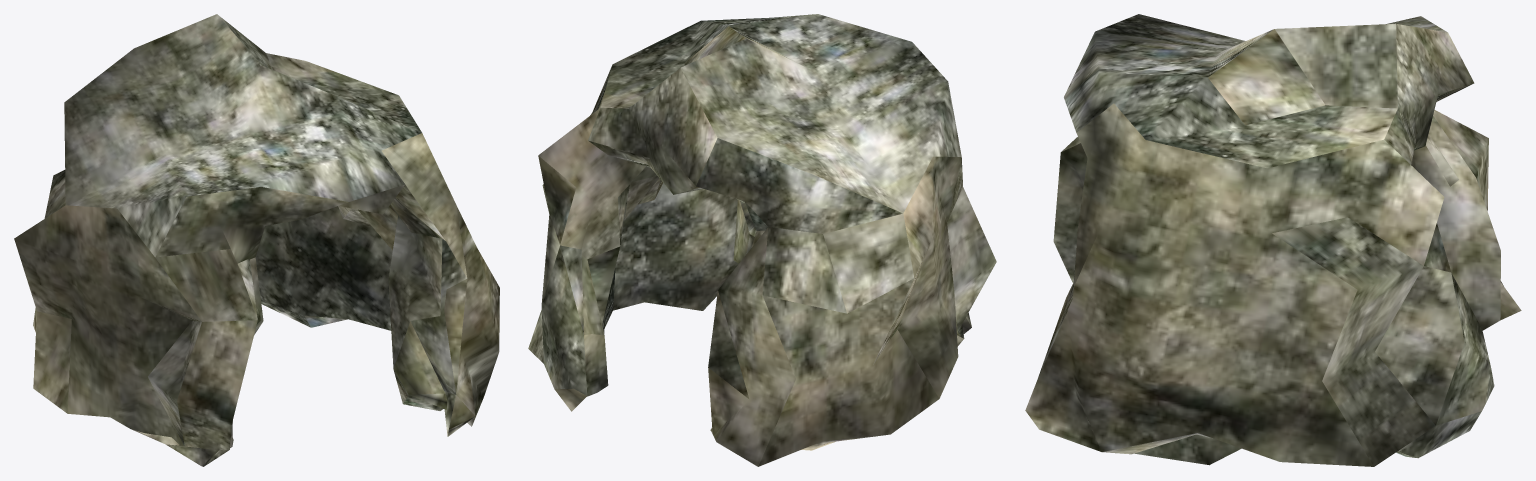
File: cave_entrance_tex.obj
3 renders of one model, left to right at view 1: azimuth 30°, elevation 25°; view 2: azimuth 150°, elevation 25°; view 3: azimuth 270°, elevation 25°, orthographic. The views are drawn at different scales.
Parts seen in each view (by area): view 1: cave_entrance_Sphere.001; view 2: cave_entrance_Sphere.001; view 3: cave_entrance_Sphere.001.
Part boxes in pixels (x1,y1,x2,y2): cave_entrance_Sphere.001: [14, 14, 499, 466]; cave_entrance_Sphere.001: [528, 14, 996, 466]; cave_entrance_Sphere.001: [1025, 14, 1521, 466].
Bounding box in the file's own units: 2.95 × 2.47 × 2.93.
